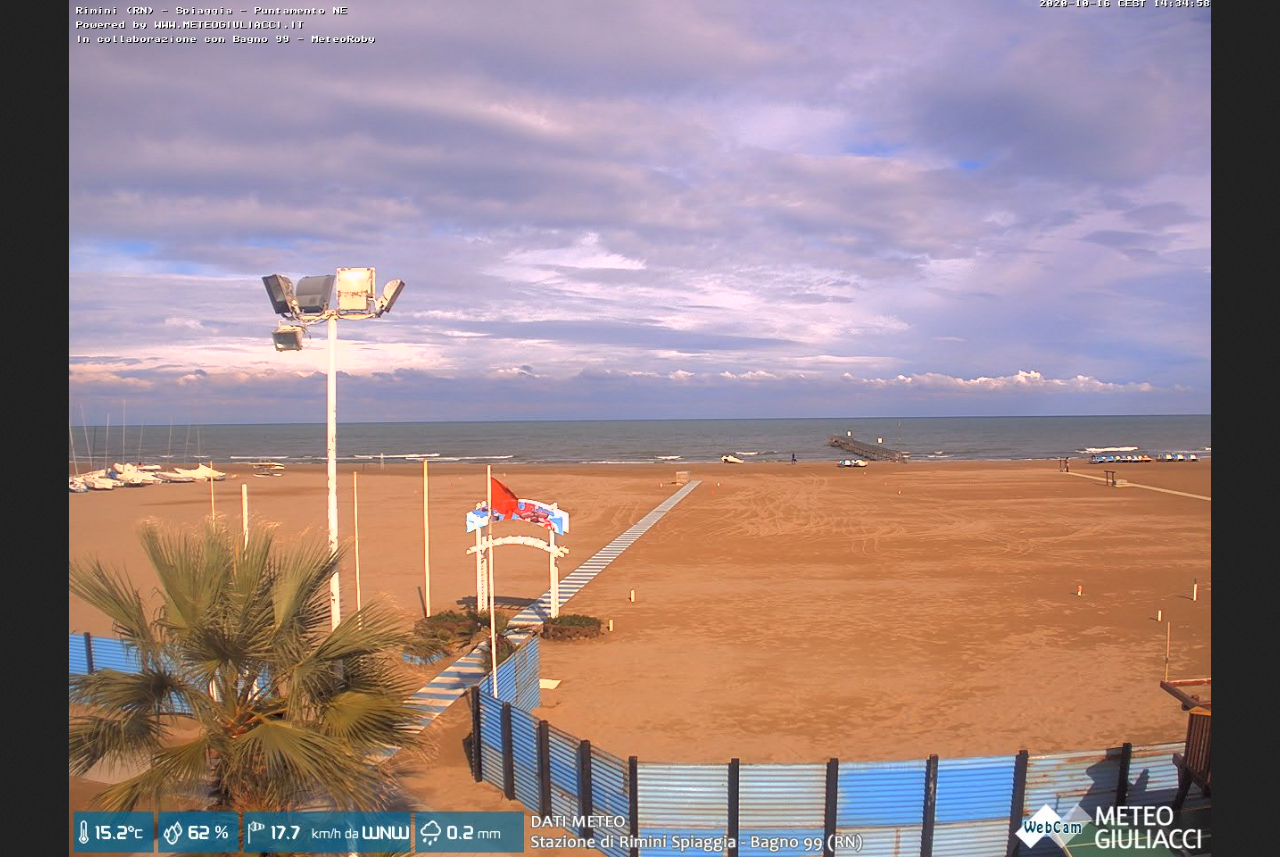yes: (493, 470, 518, 517)
